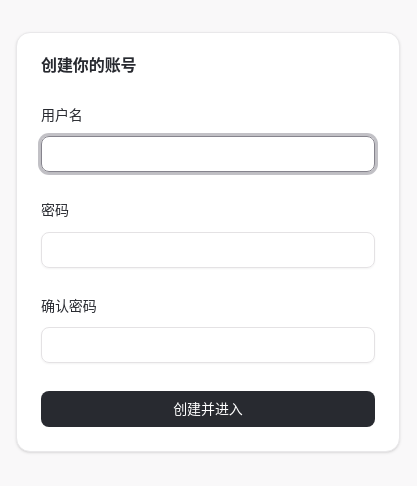
Test: SetupPage › points at the login page when the account already exists
The image size is (417, 486).
Type "jinghao" into the field labelled "用户名" at (208, 154), box [41,136,375,172]
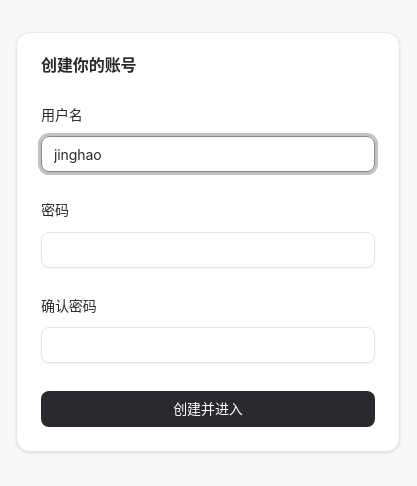
Type "correct horse" into the password field labelled "密码" at (208, 250), box [41,232,375,268]
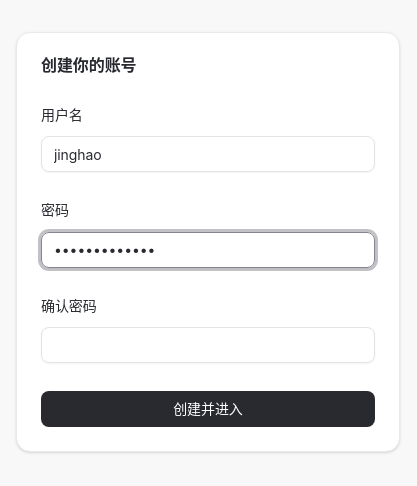
Type "correct horse" into the password field labelled "确认密码" at (208, 345), box [41,327,375,363]
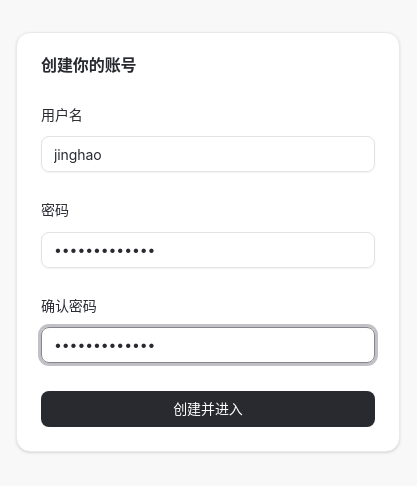
Click the button "创建并进入" at (208, 409), box [41,391,375,427]
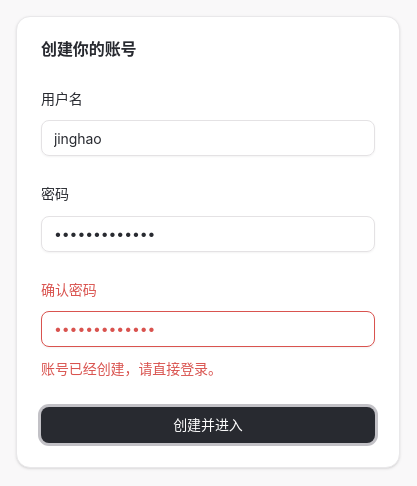
Result: the message reads "账号已经创建，请直接登录。" at [41,360,222,377]
